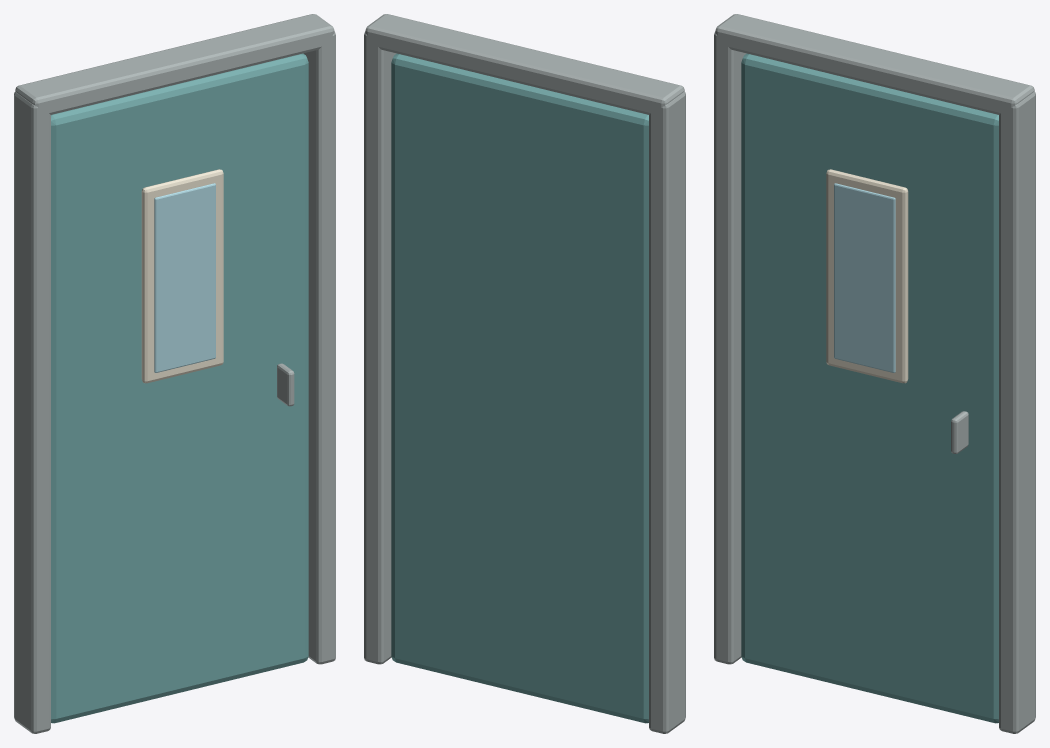
Rendered from lobby_T3_door.glb.
3 views of the same model, side by side, from view 1: azimuth 30°, elevation 25°; view 2: azimuth 150°, elevation 25°; view 3: azimuth 330°, elevation 25° (orthographic).
Parts seen in each view (by area): view 1: lobby_T3_door__Static_Assembly; view 2: lobby_T3_door__Static_Assembly; view 3: lobby_T3_door__Static_Assembly.
Part boxes in pixels (x1,y1,x2,y2): lobby_T3_door__Static_Assembly: (14, 14, 335, 733); lobby_T3_door__Static_Assembly: (364, 14, 685, 733); lobby_T3_door__Static_Assembly: (714, 14, 1035, 733).
Bounding box in the file's own units: 1.09 × 2.18 × 0.185.
